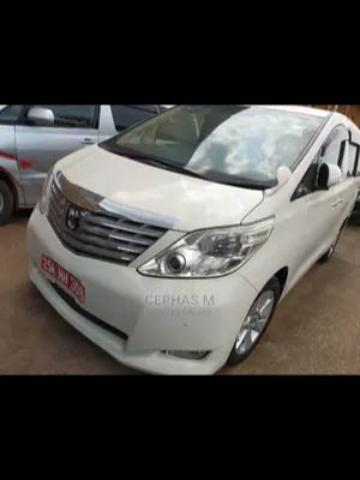van: (30, 105, 347, 363)
